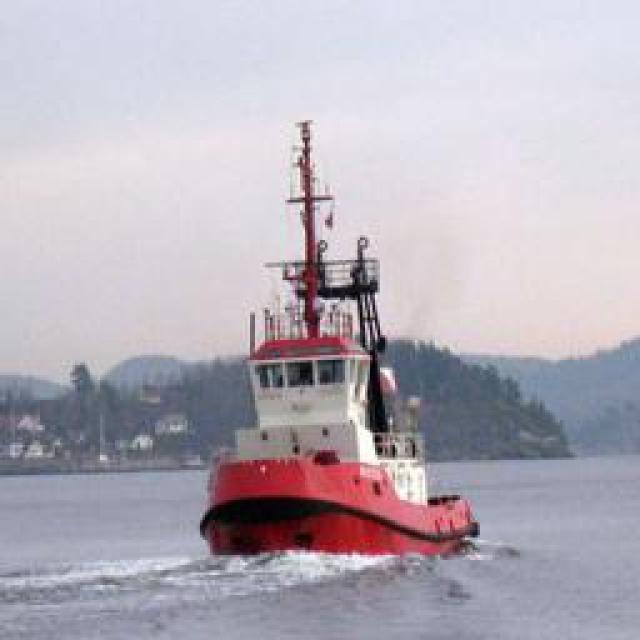Ship: (201, 165, 474, 568)
